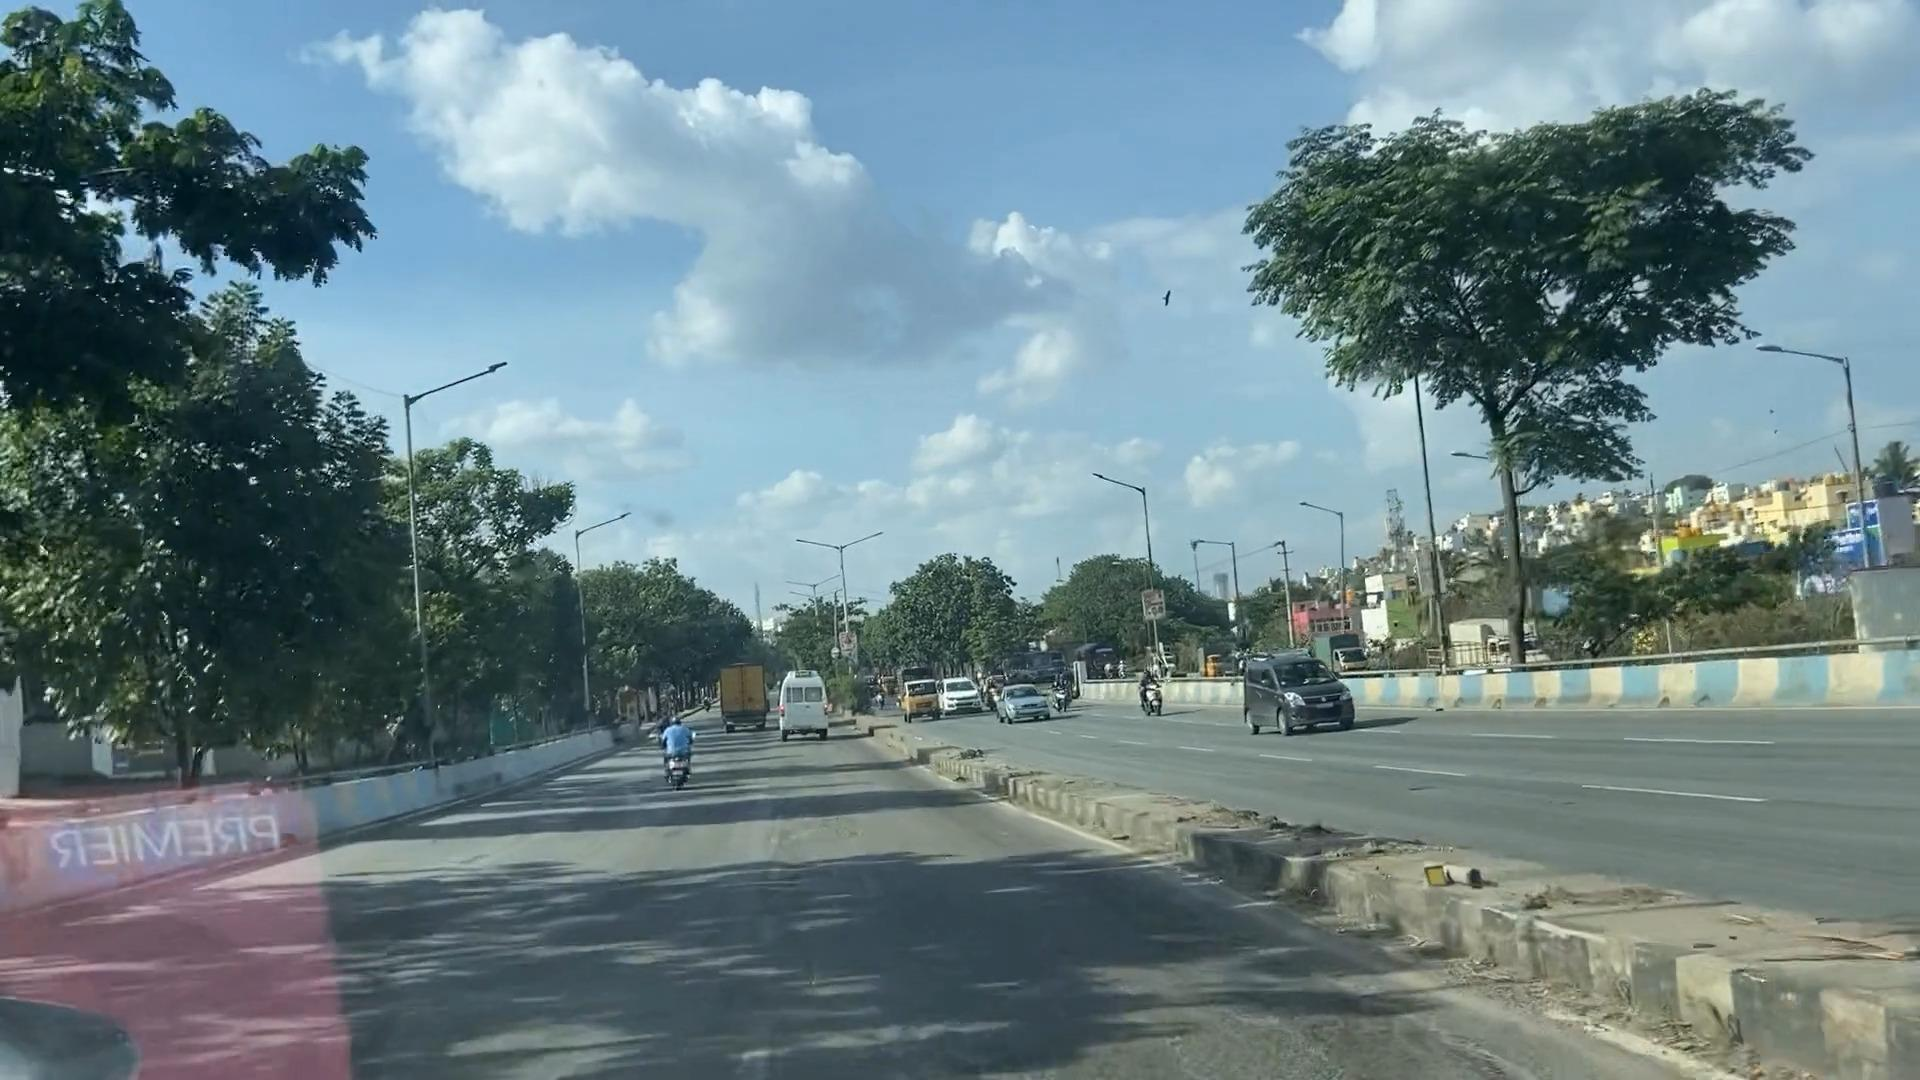HMV: (706, 666, 773, 727), (774, 676, 831, 744)
LMV: (654, 707, 703, 786)
RoadDamages: (756, 939, 1421, 1080)
